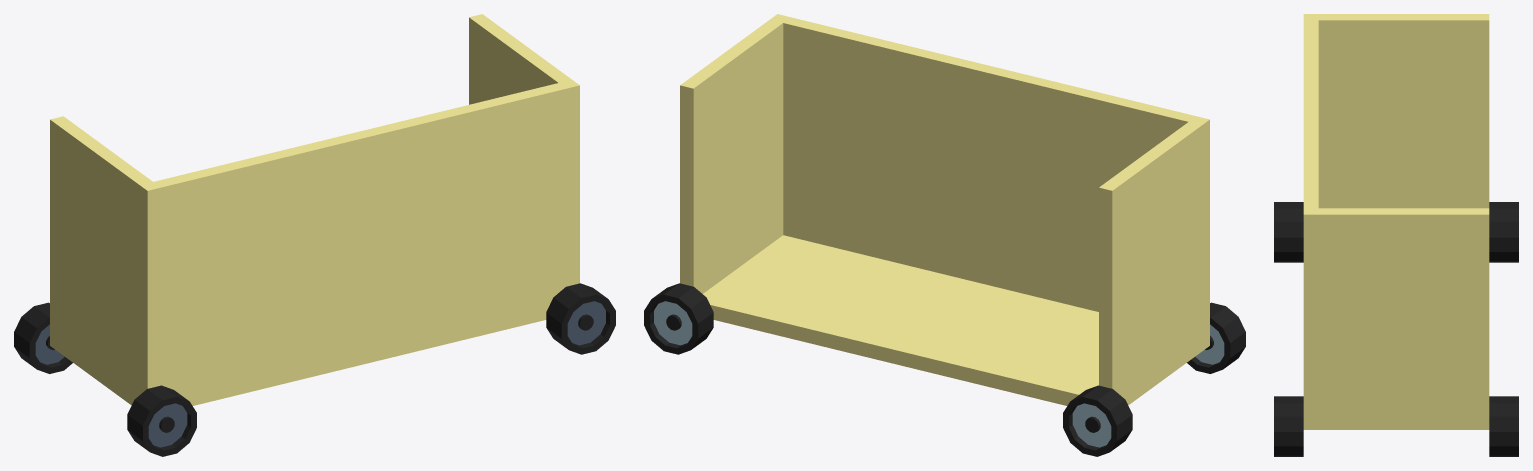
The model's file is BooksCart.fbx.
The picture shows the model from 3 angles, left to right: view 1: azimuth 30°, elevation 25°; view 2: azimuth 150°, elevation 25°; view 3: azimuth 270°, elevation 25°; orthographic projection. The views are drawn at different scales.
Visible parts, largest first — view 1: Body, Wall_Right, Wheels_2, Wall_Left, Wheels_1; view 2: Body, Wall_Right, Wall_Left, Wheels_2, Wheels_1; view 3: Wall_Left, Wall_Right, Body, Wheels_1, Wheels_2.
Boxes of the visible parts, x1,y1,x2,y2 form: Body: (139, 80, 579, 405); Wall_Right: (50, 116, 152, 405); Wheels_2: (14, 302, 196, 456); Wall_Left: (469, 14, 571, 104); Wheels_1: (546, 283, 615, 354); Body: (703, 14, 1209, 405); Wall_Right: (1099, 122, 1202, 405); Wall_Left: (680, 20, 783, 293); Wheels_2: (1063, 302, 1245, 456); Wheels_1: (644, 283, 713, 354); Wall_Left: (1318, 208, 1489, 429); Wall_Right: (1318, 14, 1489, 208); Body: (1303, 14, 1318, 429); Wheels_1: (1274, 396, 1518, 456); Wheels_2: (1274, 202, 1518, 262).
Size of the model in its own units: 109 by 56.25 by 51.56.
Materials: 6 (6 with a texture image).
